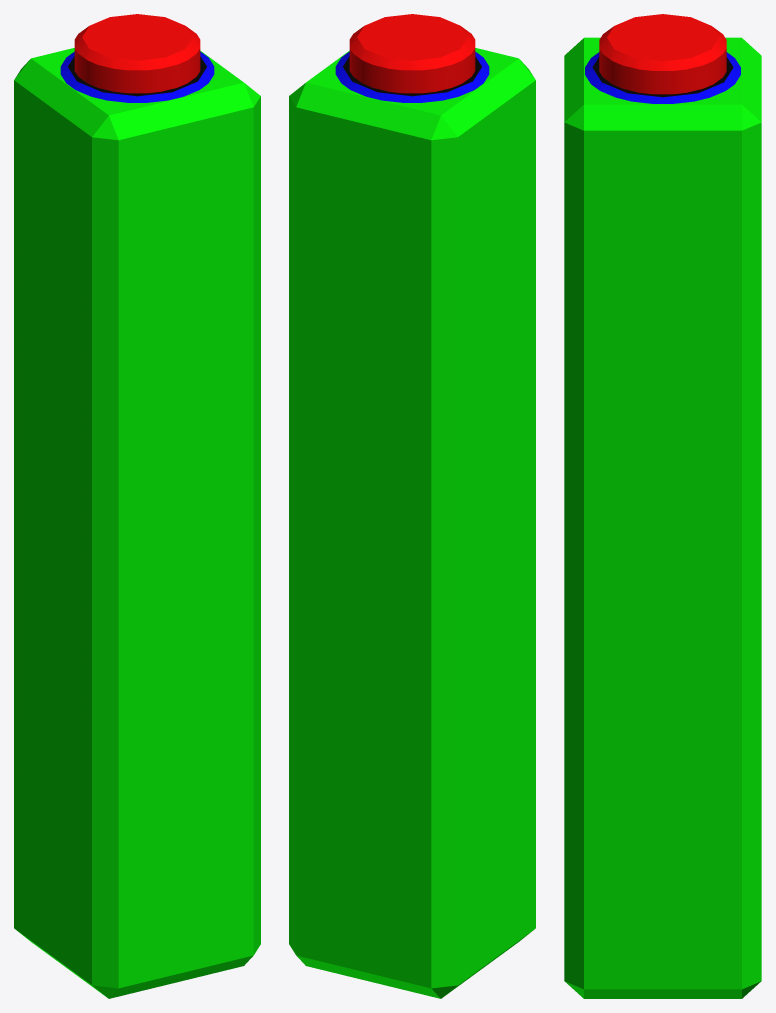
The model's file is ButtonBox.FBX.
The picture shows the model from 3 angles, left to right: view 1: azimuth 30°, elevation 25°; view 2: azimuth 150°, elevation 25°; view 3: azimuth 270°, elevation 25°; orthographic projection.
Visible parts, largest first — view 1: ButtonBox, Button; view 2: ButtonBox, Button; view 3: ButtonBox, Button.
Part boxes in pixels (x1,y1,x2,y2): ButtonBox: (14, 48, 260, 998); Button: (74, 14, 200, 93); ButtonBox: (289, 48, 535, 998); Button: (349, 14, 475, 93); ButtonBox: (564, 37, 761, 998); Button: (599, 14, 726, 94).
Size of the model in its own units: 5.6 by 29.03 by 5.6.
